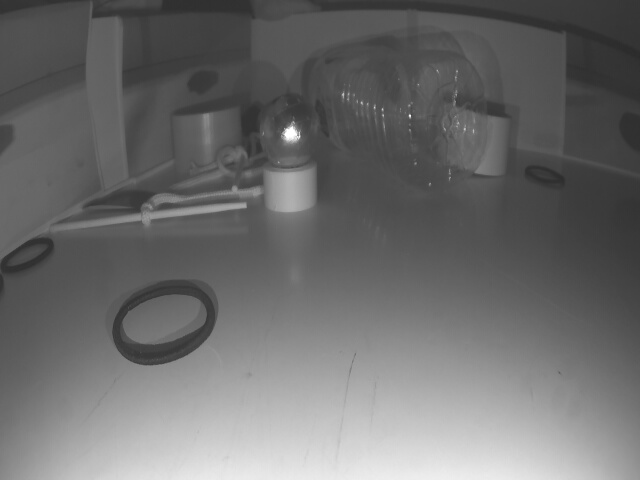Live: (259, 98, 321, 164)
